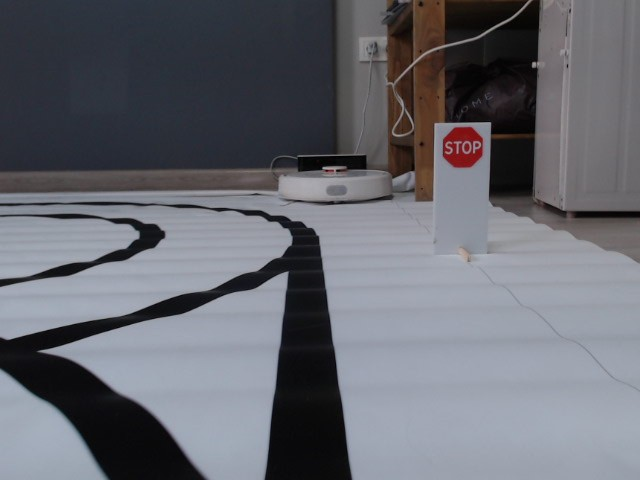Stop: (438, 124, 486, 170)
